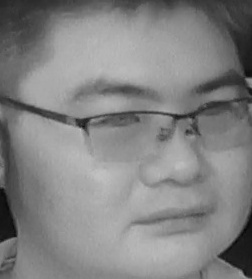eye: (95, 109, 143, 128), (195, 99, 233, 117)
glass: (83, 106, 174, 160), (192, 96, 252, 150)
mouth: (131, 204, 218, 237)
